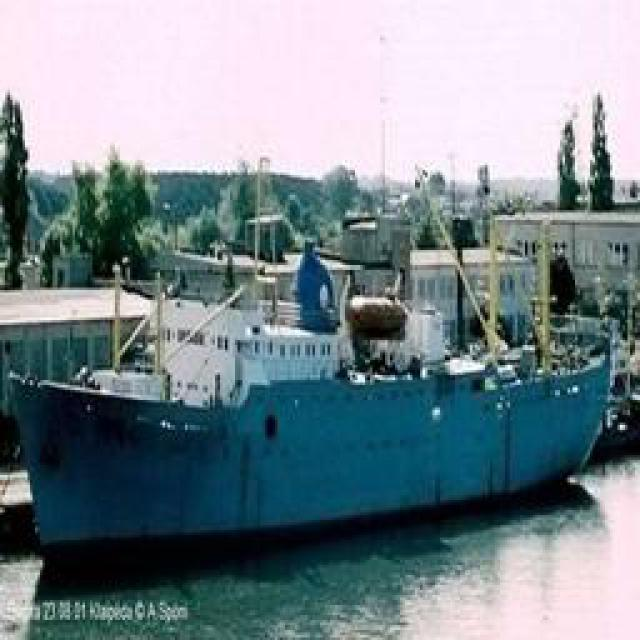Ship: (21, 185, 621, 560)
